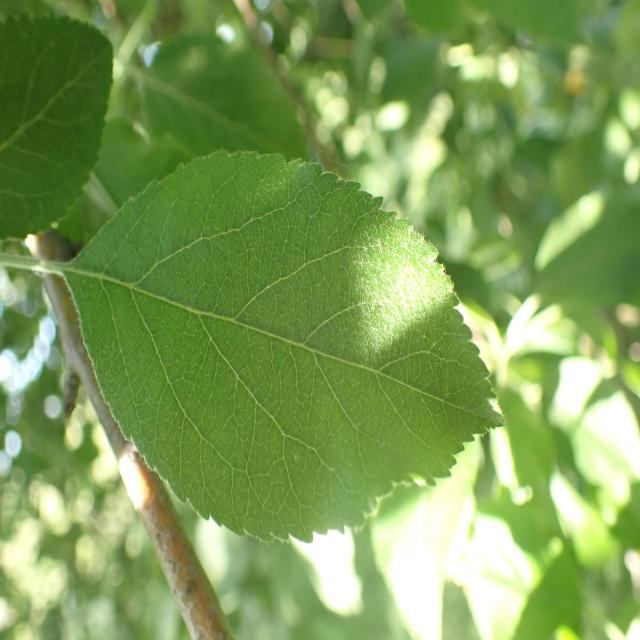healthy: (64, 148, 508, 545), (0, 9, 116, 241)
